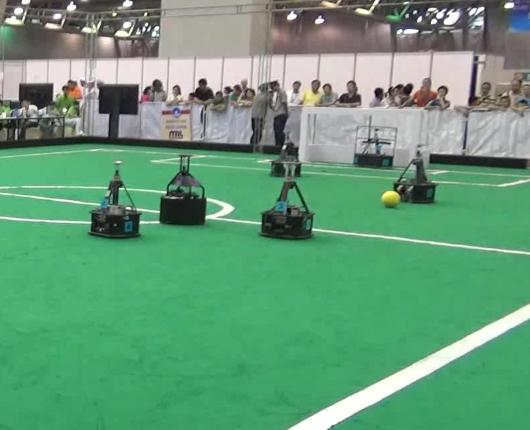robot: (258, 159, 317, 240), (88, 157, 143, 240), (157, 151, 207, 225), (389, 142, 439, 205)
